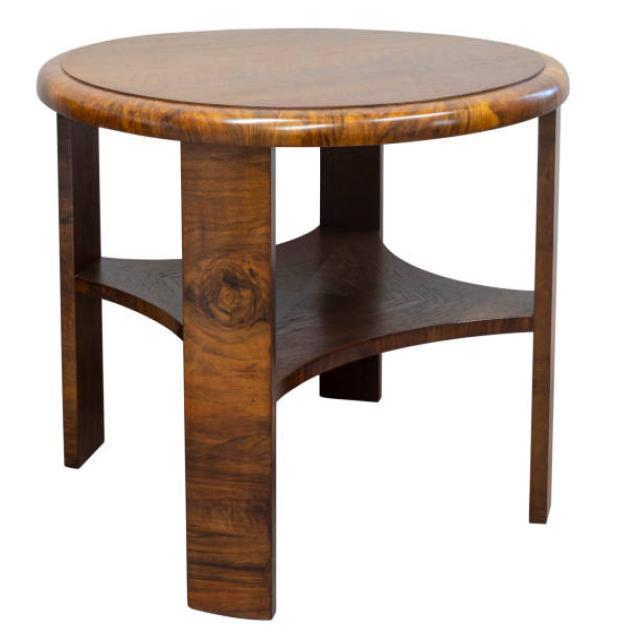table: (35, 26, 570, 620)
